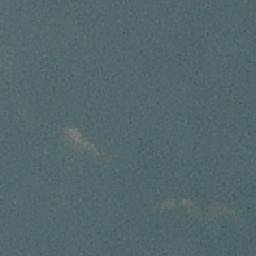debris: (158, 198, 195, 207), (67, 127, 82, 144), (85, 142, 101, 157), (197, 205, 227, 212)
